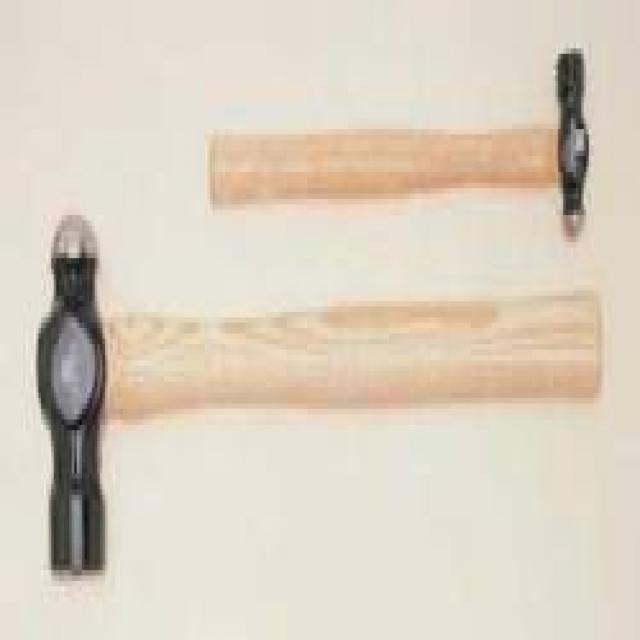hammer: (28, 201, 614, 594), (196, 28, 598, 255)
